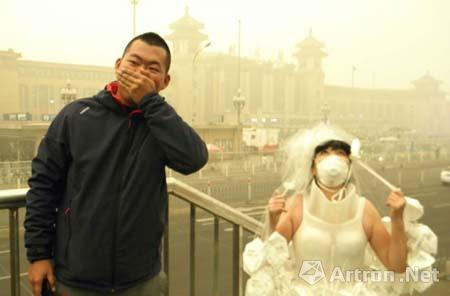face: (116, 43, 162, 98)
face_mask: (316, 143, 348, 185)
